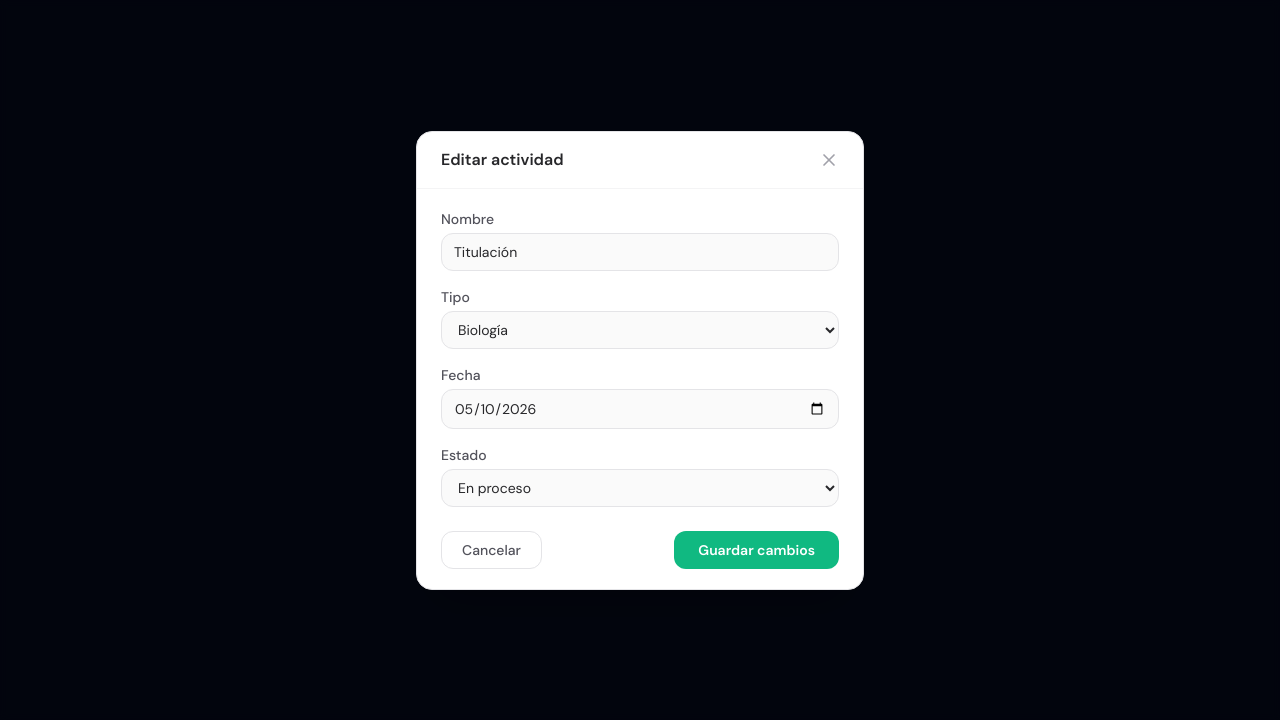
Scenario: FormularioActividad Component › muestra el error del backend y permite descartarlo
Click the button "Guardar cambios": coordinates (757, 550) [674, 530, 839, 568]
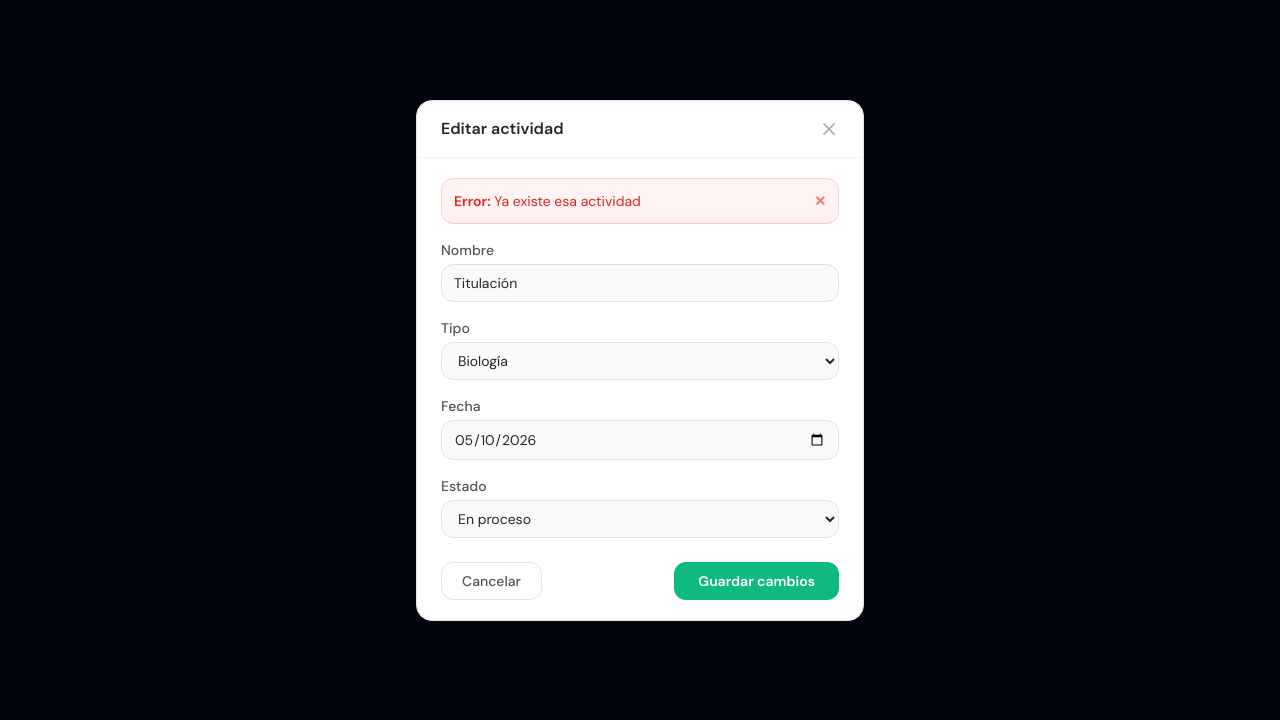
Now the text "Ya existe esa actividad" is shown, box [494, 192, 641, 210]
Click the button "✕": coordinates (820, 200) [814, 190, 826, 210]
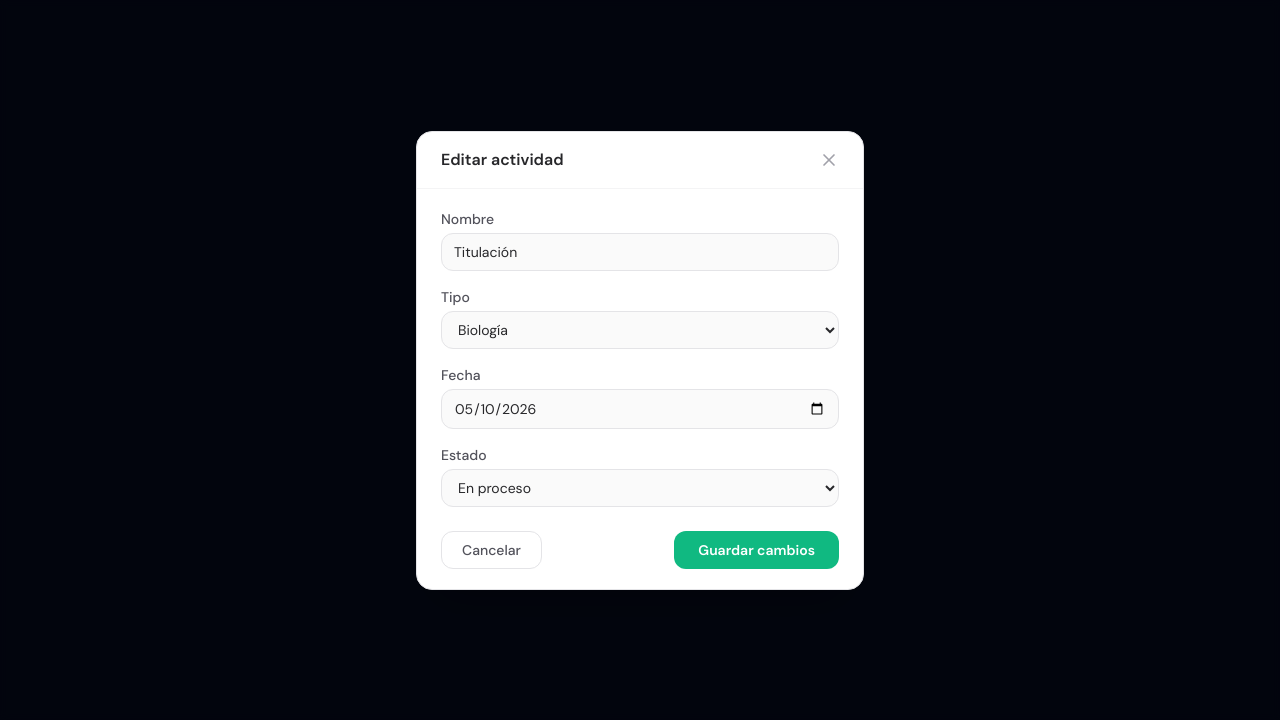
Now the text "Ya existe esa actividad" is gone
